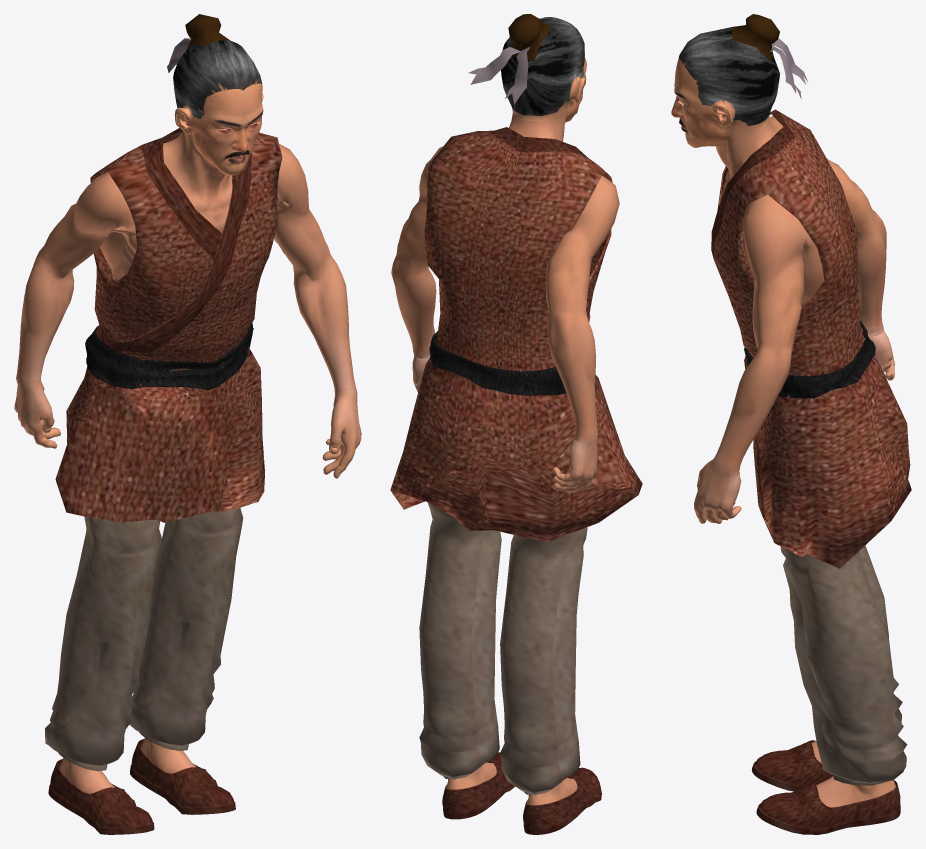
The picture shows the model from 3 angles, left to right: view 1: azimuth 30°, elevation 25°; view 2: azimuth 150°, elevation 25°; view 3: azimuth 270°, elevation 25°; orthographic projection. The views are drawn at different scales.
Parts seen in each view (by area): view 1: 古代人078ok; view 2: 古代人078ok; view 3: 古代人078ok.
Boxes of the visible parts, <box> form: 古代人078ok: <box>14,14,361,834</box>; 古代人078ok: <box>390,14,642,834</box>; 古代人078ok: <box>671,14,911,834</box>.
Bounding box in the file's own units: 61.08 × 177 × 48.16.
Materials: 2 (2 with a texture image).
